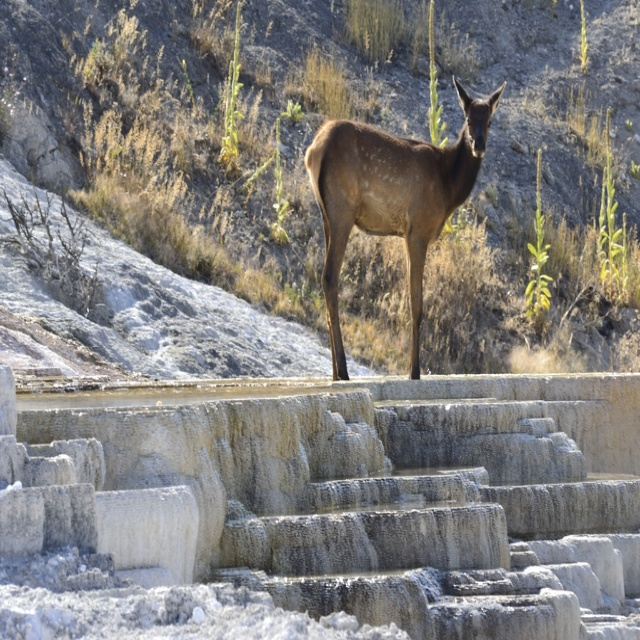Deer: (303, 75, 509, 379)
